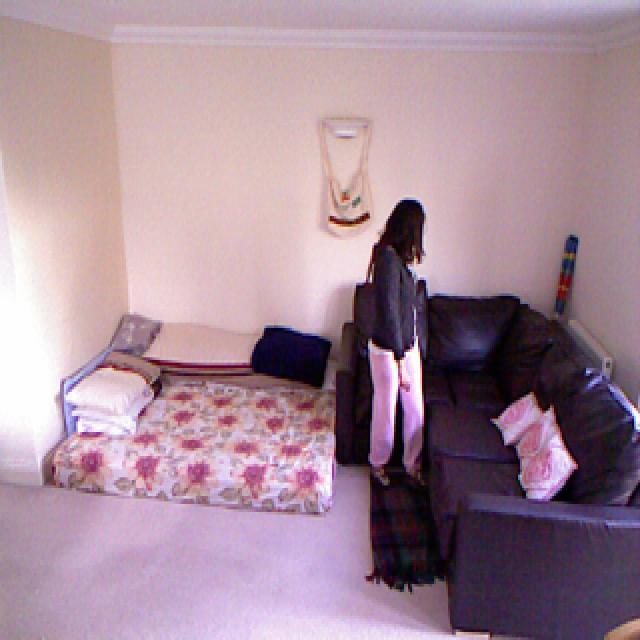walking: (356, 191, 434, 503)
